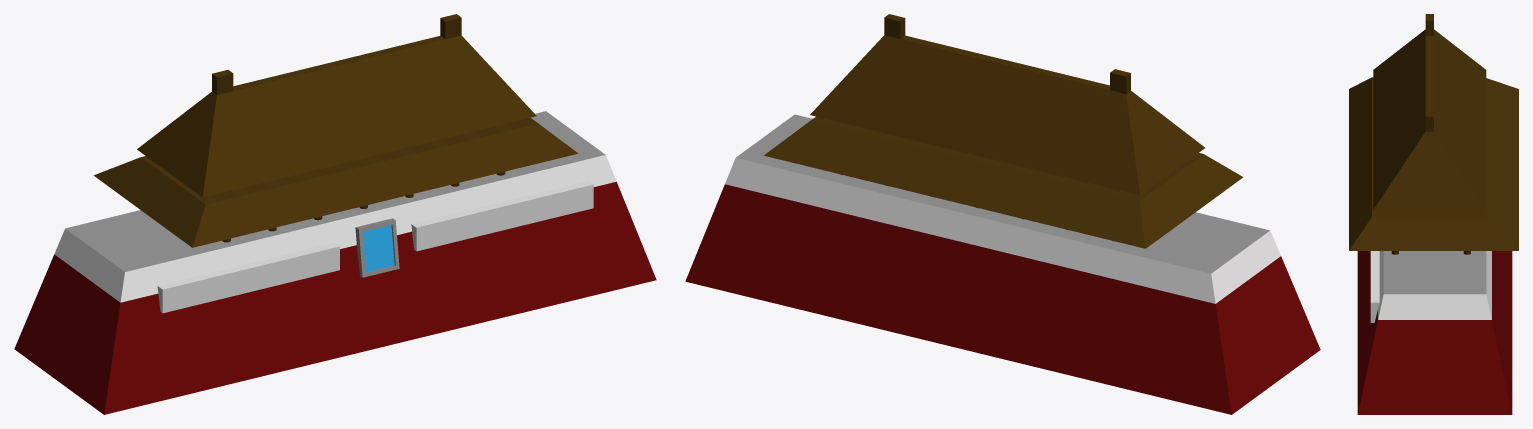
File: Tianan Door.FBX
3 renders of one model, left to right at view 1: azimuth 30°, elevation 25°; view 2: azimuth 150°, elevation 25°; view 3: azimuth 270°, elevation 25°, orthographic. The views are drawn at different scales.
Visible parts, largest first — view 1: Box001, Box003, Box002, Box005, Box006, Box004; view 2: Box001, Box003, Box002; view 3: Box001, Box003, Box002, Box005.
Boxes of the visible parts, x1,y1,x2,y2 form: Box001: (14, 111, 656, 414); Box003: (137, 14, 536, 197); Box002: (93, 117, 578, 247); Box005: (411, 180, 593, 251); Box006: (157, 242, 339, 313); Box004: (355, 218, 399, 277); Box001: (685, 114, 1320, 414); Box003: (810, 14, 1204, 195); Box002: (764, 116, 1243, 248); Box001: (1357, 251, 1512, 414); Box003: (1373, 14, 1486, 209); Box002: (1349, 77, 1518, 250); Box005: (1370, 251, 1379, 322).
Size of the model in its own units: 160 by 75.15 by 49.62.
